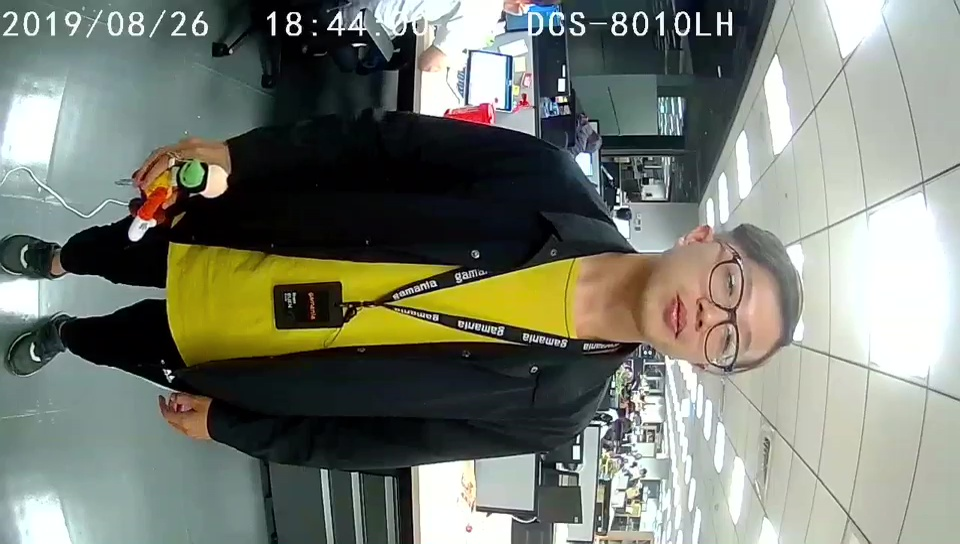goofy: (126, 159, 230, 245)
